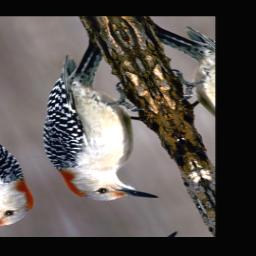Woodpecker: (0, 44, 188, 217)
